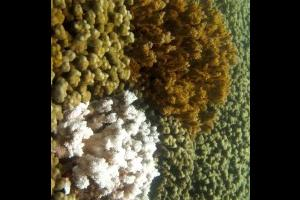bleached_corals: (56, 91, 159, 200)
